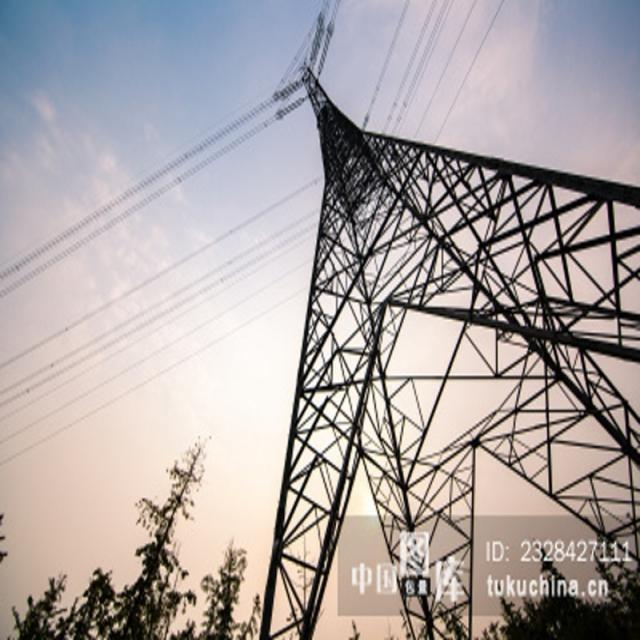non-critical vegetation: (264, 26, 630, 624)
